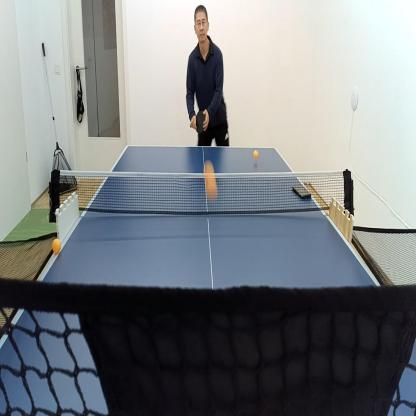Ball: (204, 161, 217, 198), (52, 238, 61, 254), (254, 150, 258, 159)
